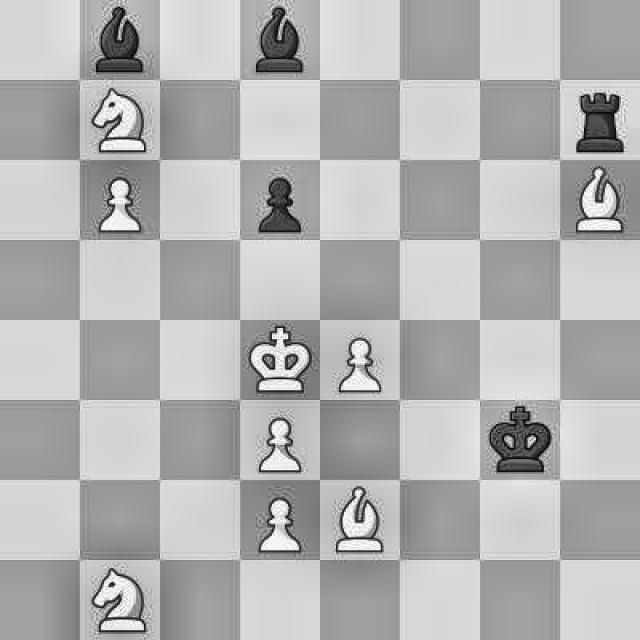black bishop: (246, 3, 313, 76), (85, 8, 155, 74)
black king: (484, 402, 554, 476)
black pawn: (244, 161, 314, 235)
black rook: (564, 82, 636, 156)
white bishop: (324, 476, 392, 564), (565, 166, 630, 239)
white king: (243, 323, 320, 396)
white pawn: (80, 161, 156, 236), (324, 320, 398, 396), (249, 401, 309, 473), (253, 493, 309, 558)
whiteknight: (84, 82, 155, 154), (88, 567, 151, 636)
